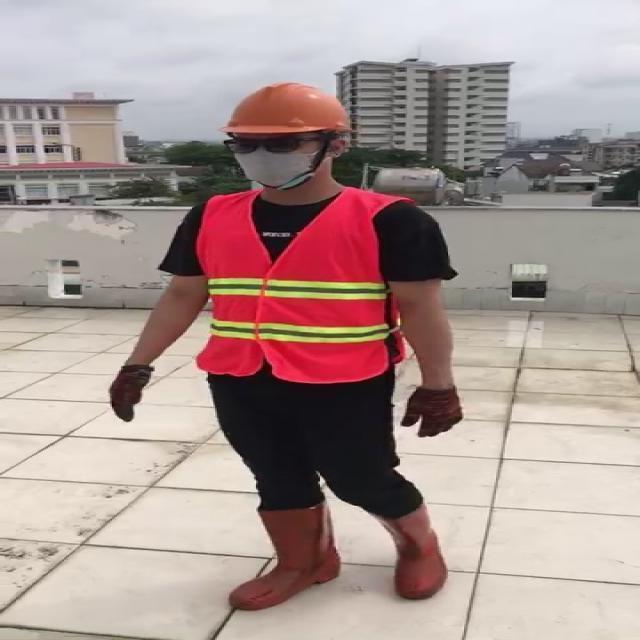gloves: (399, 379, 463, 443), (102, 357, 155, 433)
goggles: (221, 129, 345, 159)
helmet: (218, 79, 356, 140)
safety_vest: (197, 192, 396, 382)
